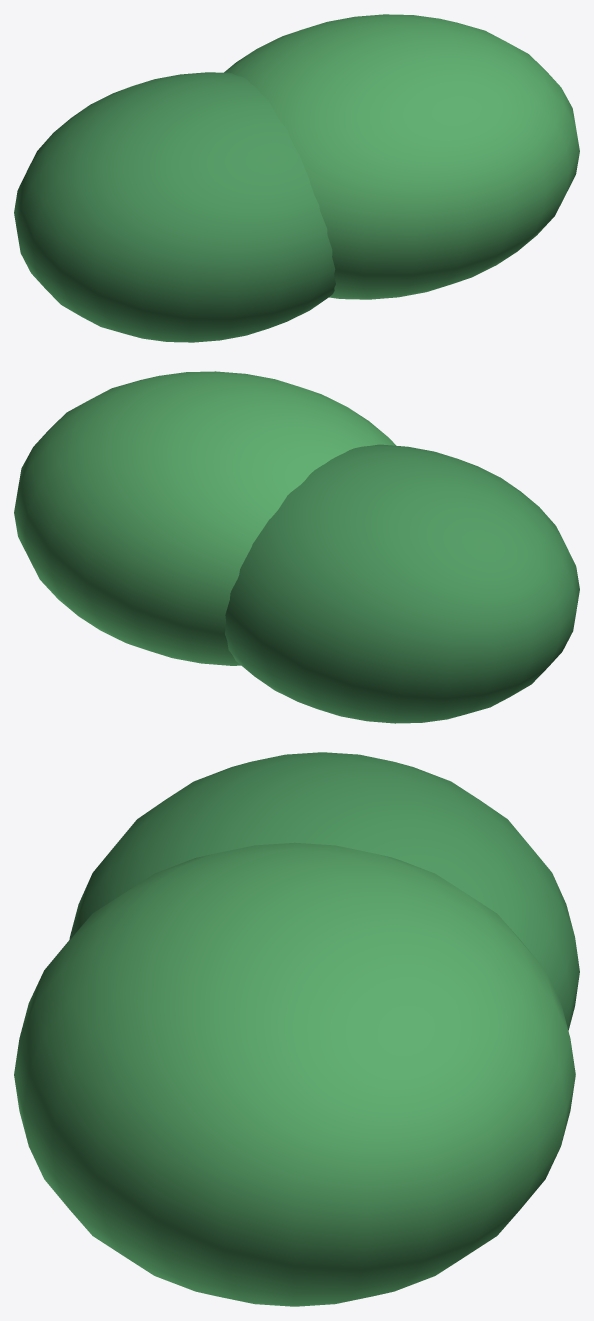
The model's file is shrub.glb.
3 renders of one model, top to bottom at view 1: azimuth 30°, elevation 25°; view 2: azimuth 150°, elevation 25°; view 3: azimuth 270°, elevation 25°, orthographic. The views are drawn at different scales.
Visible parts, largest first — view 1: shrub_b, shrub_a; view 2: shrub_a, shrub_b; view 3: shrub_b, shrub_a.
Part boxes in pixels (box(x1,y1,x2,y2)): shrub_b: box(224, 14, 579, 299); shrub_a: box(14, 72, 335, 342); shrub_a: box(225, 444, 579, 723); shrub_b: box(14, 371, 395, 665); shrub_b: box(14, 842, 575, 1306); shrub_a: box(69, 752, 579, 1030).
Bounding box in the file's own units: 0.68 × 0.3118 × 0.411.
